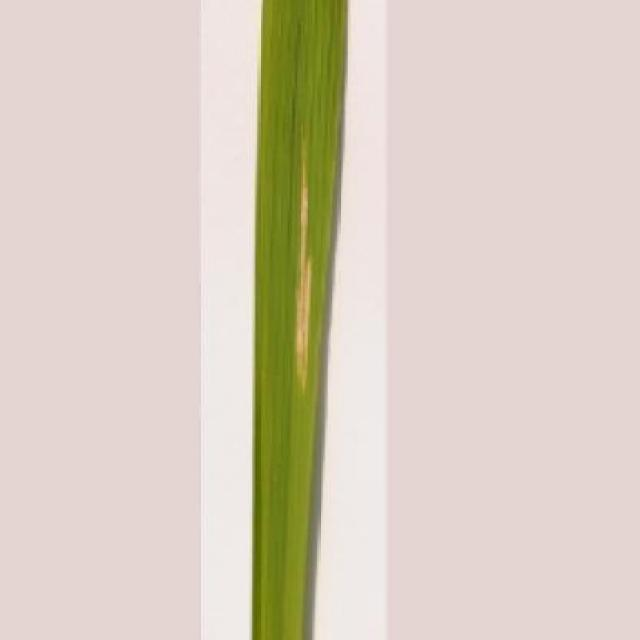Brown_Spot: (243, 0, 352, 640)
